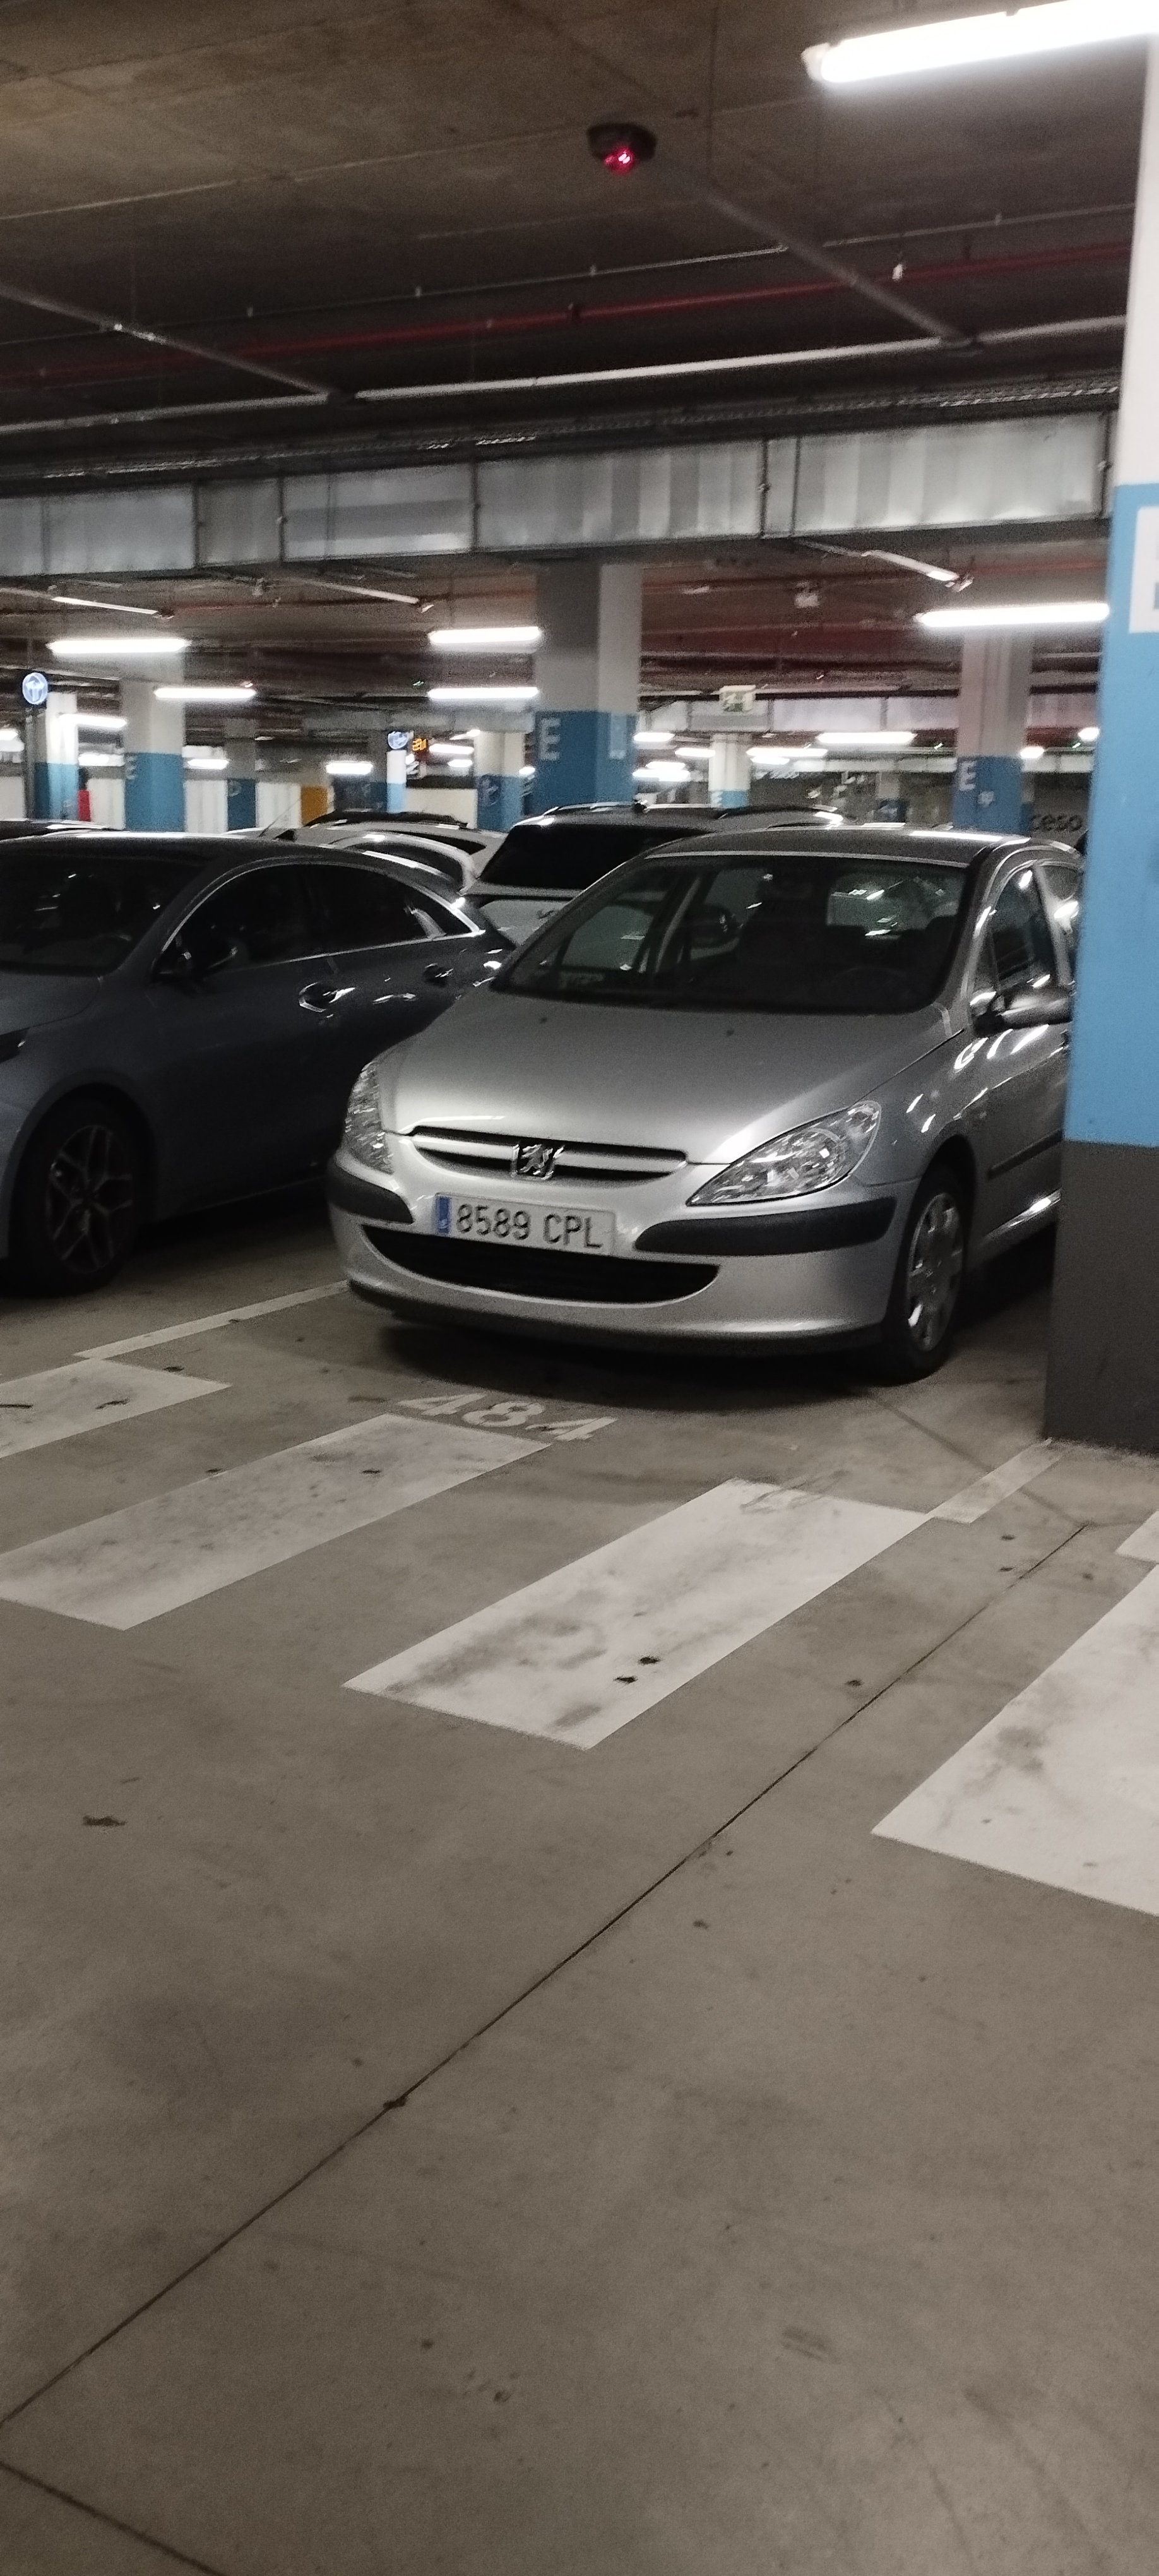Car: (335, 822, 1076, 1357)
Plate: (434, 1184, 620, 1243)
